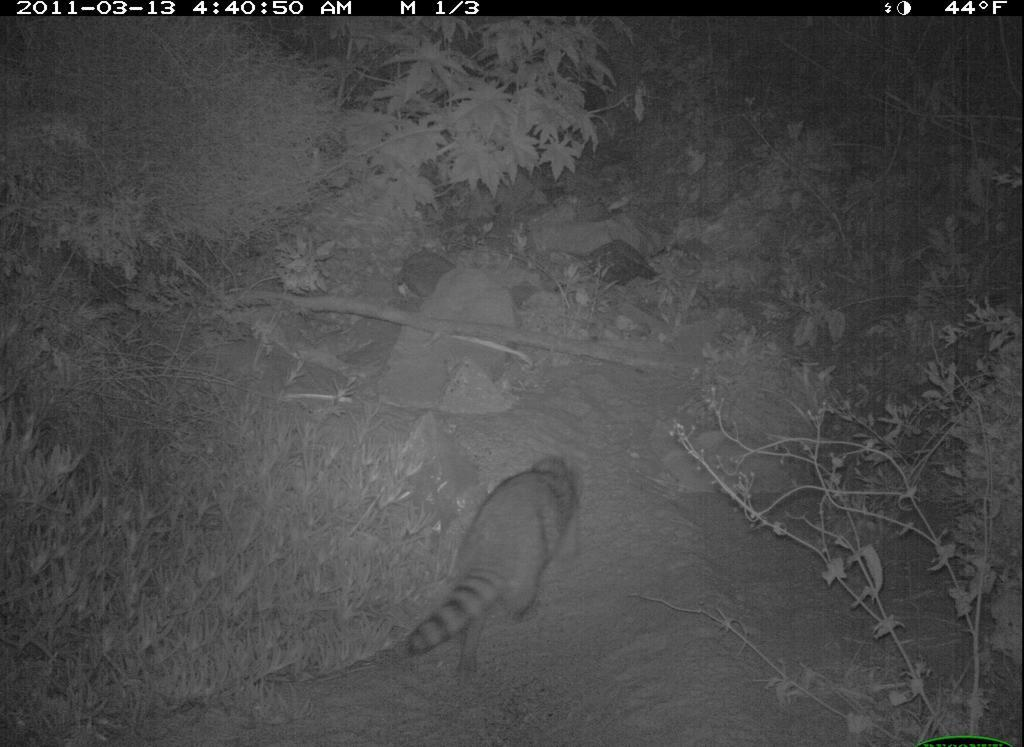raccoon: (400, 445, 597, 695)
